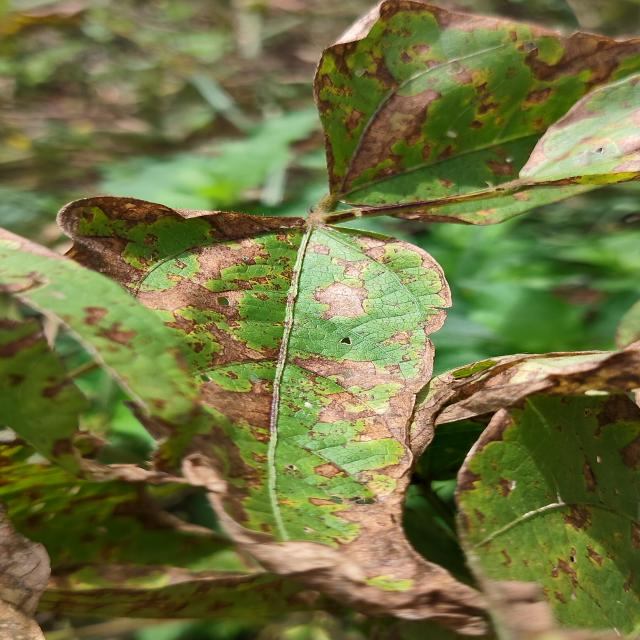Black gram_leaf spot: (46, 191, 513, 636), (301, 0, 639, 229)
